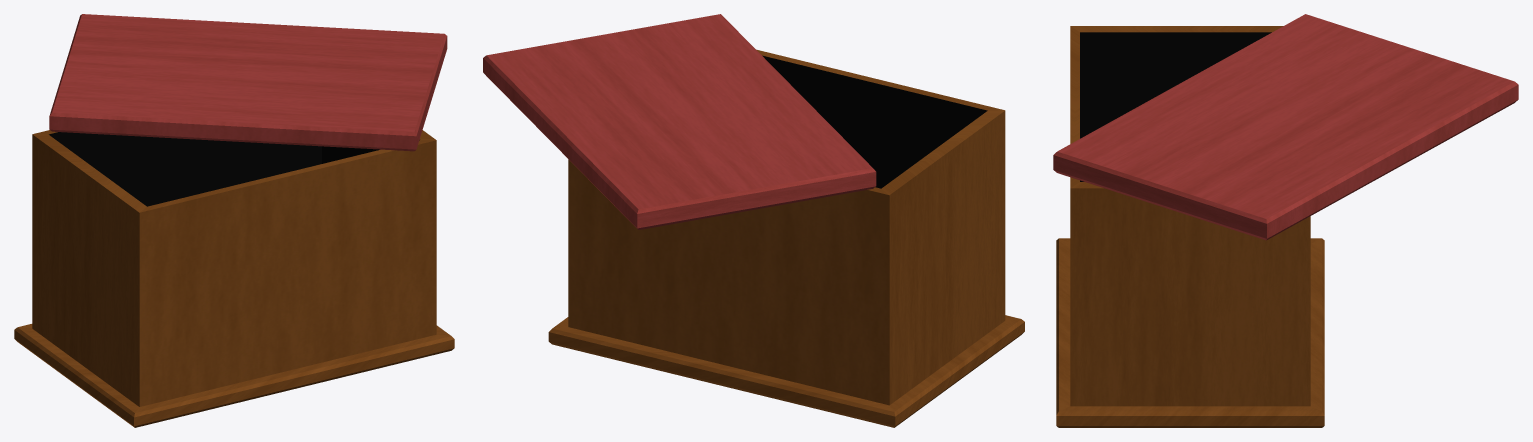
File: CofreAbierto_V1.fbx
The picture shows the model from 3 angles, left to right: view 1: azimuth 30°, elevation 25°; view 2: azimuth 150°, elevation 25°; view 3: azimuth 270°, elevation 25°; orthographic projection. The views are drawn at different scales.
Parts seen in each view (by area): view 1: CajaAbierta_V1; view 2: CajaAbierta_V1; view 3: CajaAbierta_V1.
Part boxes in pixels (<box>): CajaAbierta_V1: <box>14,14,454,427</box>; CajaAbierta_V1: <box>483,14,1024,427</box>; CajaAbierta_V1: <box>1053,14,1518,427</box>.
Bounding box in the file's own units: 438 × 235 × 387.
